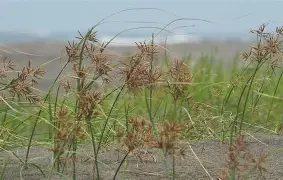weed: (0, 25, 282, 179)
